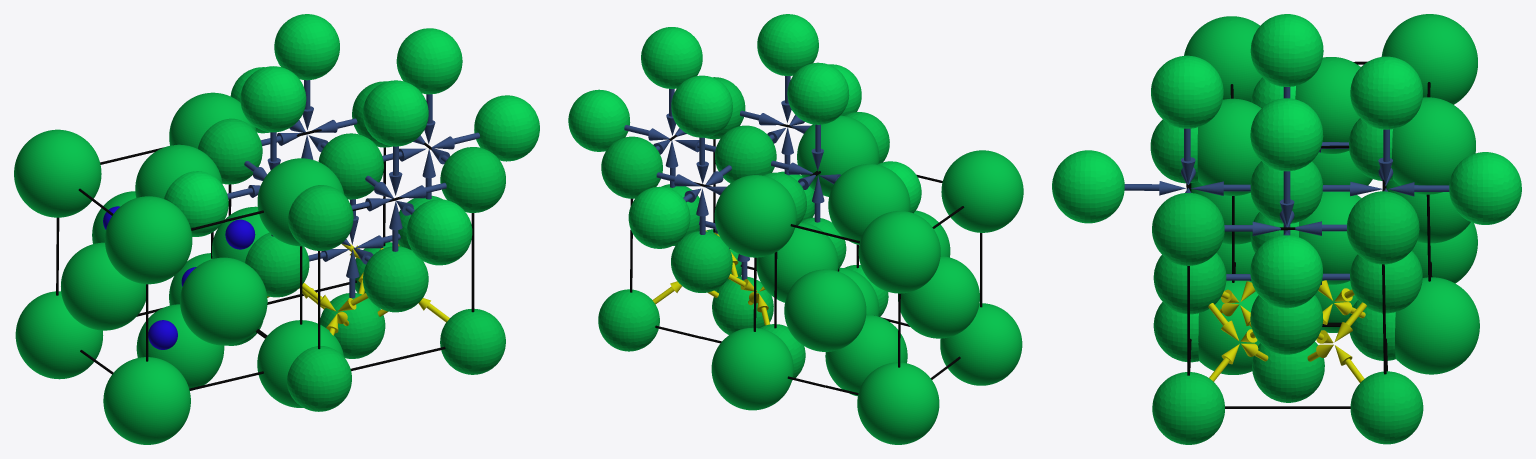
File: CCCmetalhuecos_senalizados.gltf
3 views of the same model, side by side, from view 1: azimuth 30°, elevation 25°; view 2: azimuth 150°, elevation 25°; view 3: azimuth 270°, elevation 25° (orthographic). The views are drawn at different scales.
Parts seen in each view (by area): view 1: Sphere_002_Sphere.035, Sphere_026_Sphere.013, Sphere_007_Sphere.034, Sphere_000_Sphere.000, Sphere_005_Sphere.019, Sphere_015_Sphere.021, Sphere_029_Sphere.029, Sphere_004.003_Sphere.002, Sphere_023.004_Sphere.069, Sphere_023.003_Sphere.001, Sphere_003.001_Sphere.048, Sphere_002.001_Sphere.037 (+22 smaller); view 2: Sphere_009_Sphere.020, Sphere_000_Sphere.000, Sphere_005_Sphere.019, Sphere_025_Sphere.008, Sphere_020_Sphere.026, Sphere_026_Sphere.013, Sphere_007_Sphere.034, Sphere_015_Sphere.021, Sphere_004_Sphere.018, Sphere_029_Sphere.029, Sphere_019_Sphere.025, Sphere_023_Sphere.014 (+21 smaller); view 3: Sphere_020_Sphere.026, Sphere_025_Sphere.008, Sphere_000_Sphere.000, Sphere_029_Sphere.029, Sphere_004.003_Sphere.002, Sphere_023.005_Sphere.003, Sphere_023.002_Sphere.065, Sphere_023.003_Sphere.001, Sphere_023.004_Sphere.069, Sphere_025.001_Sphere.060, Sphere_004.002_Sphere.064, Sphere_004.005_Sphere.004 (+30 smaller).
Boxes of the visible parts, bbox=[...] form: Sphere_002_Sphere.035: bbox=[180, 257, 267, 345]; Sphere_026_Sphere.013: bbox=[105, 196, 192, 284]; Sphere_007_Sphere.034: bbox=[103, 357, 190, 444]; Sphere_000_Sphere.000: bbox=[14, 129, 101, 217]; Sphere_005_Sphere.019: bbox=[15, 291, 103, 379]; Sphere_015_Sphere.021: bbox=[61, 242, 145, 330]; Sphere_029_Sphere.029: bbox=[257, 158, 344, 246]; Sphere_004.003_Sphere.002: bbox=[406, 199, 472, 265]; Sphere_023.004_Sphere.069: bbox=[240, 66, 306, 132]; Sphere_023.003_Sphere.001: bbox=[363, 80, 428, 146]; Sphere_003.001_Sphere.048: bbox=[440, 308, 505, 374]; Sphere_002.001_Sphere.037: bbox=[363, 246, 428, 312]; Sphere_009_Sphere.020: bbox=[784, 269, 866, 351]; Sphere_000_Sphere.000: bbox=[858, 211, 940, 293]; Sphere_005_Sphere.019: bbox=[857, 362, 939, 444]; Sphere_025_Sphere.008: bbox=[714, 175, 796, 257]; Sphere_020_Sphere.026: bbox=[711, 327, 793, 410]; Sphere_026_Sphere.013: bbox=[941, 150, 1023, 232]; Sphere_007_Sphere.034: bbox=[940, 303, 1022, 385]; Sphere_015_Sphere.021: bbox=[898, 256, 979, 338]; Sphere_004_Sphere.018: bbox=[828, 164, 910, 244]; Sphere_029_Sphere.029: bbox=[797, 115, 879, 196]; Sphere_019_Sphere.025: bbox=[825, 314, 907, 396]; Sphere_023_Sphere.014: bbox=[756, 222, 838, 302]; Sphere_020_Sphere.026: bbox=[1395, 277, 1479, 374]; Sphere_025_Sphere.008: bbox=[1392, 97, 1475, 194]; Sphere_000_Sphere.000: bbox=[1381, 14, 1477, 104]; Sphere_029_Sphere.029: bbox=[1197, 98, 1261, 195]; Sphere_004.003_Sphere.002: bbox=[1052, 150, 1124, 223]; Sphere_023.005_Sphere.003: bbox=[1350, 56, 1422, 129]; Sphere_023.002_Sphere.065: bbox=[1250, 98, 1323, 171]; Sphere_023.003_Sphere.001: bbox=[1151, 55, 1223, 128]; Sphere_023.004_Sphere.069: bbox=[1250, 14, 1323, 86]; Sphere_025.001_Sphere.060: bbox=[1347, 191, 1419, 264]; Sphere_004.002_Sphere.064: bbox=[1250, 235, 1322, 308]; Sphere_004.005_Sphere.004: bbox=[1449, 152, 1521, 224].
Size of the model in its own units: 23.52 by 15.85 by 19.18.
